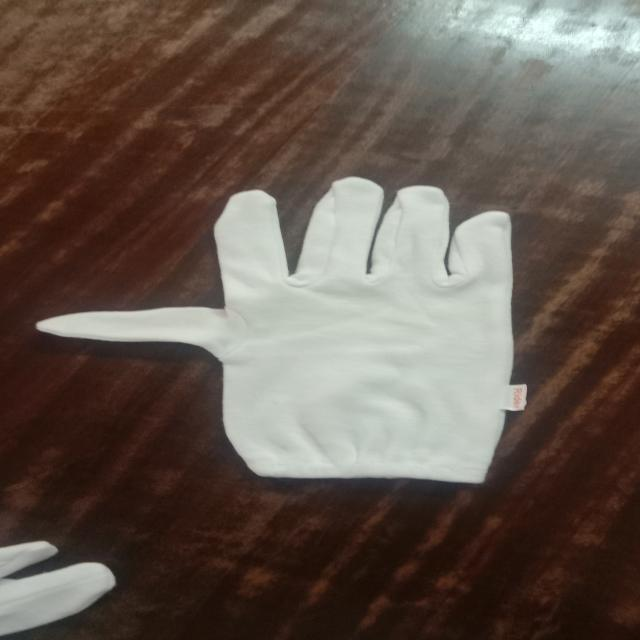Gloves: (40, 182, 550, 488), (7, 535, 123, 634)
